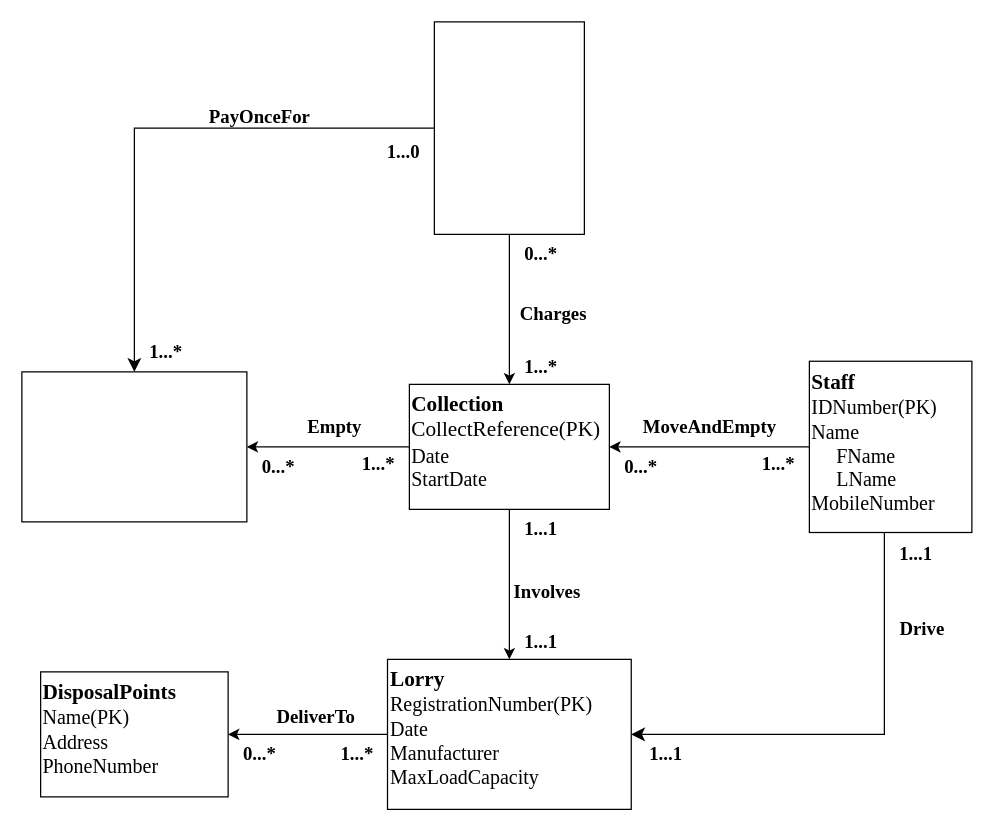
Image size: 994x831. Some labels were removed from this diagram. Here are the shapes that lost their labels. From the top down, the centre of each, then its label:
the point at 508,127: Customer ID (PK) Name FName LName Email Address AccountBalance
the point at 134,446: Bin IDNumber(PK) MaxAccommodateWeight LastMaintenanceDate Category
